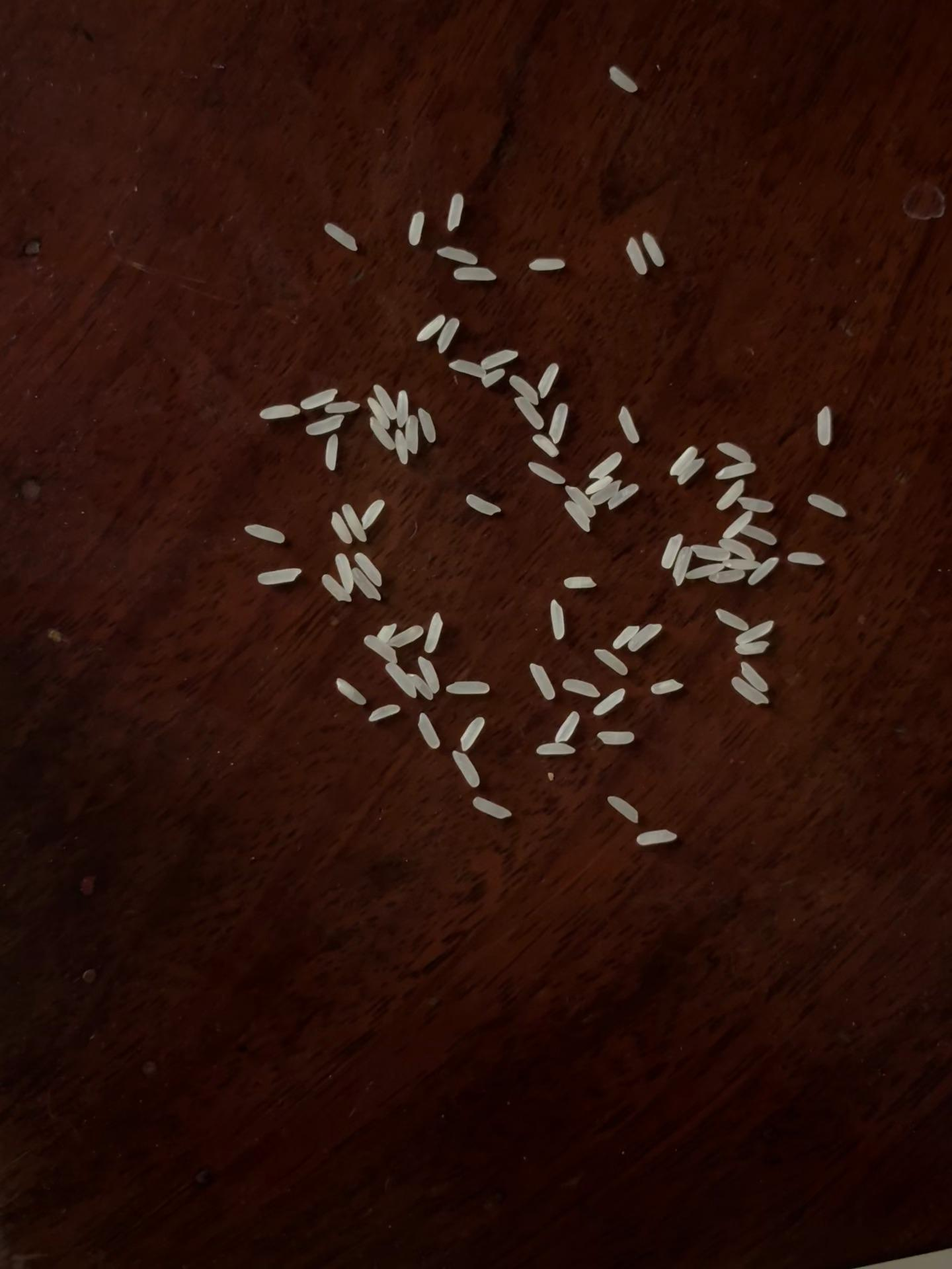Rice-th-y-nh: (385, 662, 417, 699), (451, 749, 481, 788), (340, 503, 368, 543), (731, 677, 770, 705), (564, 485, 597, 518), (363, 635, 399, 664), (529, 662, 556, 700), (628, 623, 663, 652), (735, 620, 775, 645), (670, 546, 695, 586), (352, 568, 382, 601), (592, 688, 626, 717), (323, 223, 358, 251), (594, 648, 629, 676), (355, 552, 383, 587), (459, 716, 486, 752), (509, 375, 540, 406), (514, 397, 544, 429), (472, 796, 511, 820), (722, 510, 753, 540), (668, 446, 698, 477), (716, 479, 745, 511), (333, 554, 356, 594), (588, 452, 622, 479), (368, 417, 395, 451), (417, 656, 441, 694), (321, 574, 351, 604), (416, 713, 441, 749), (373, 384, 398, 420), (748, 557, 779, 586), (740, 661, 769, 692), (808, 494, 847, 517), (335, 678, 367, 706), (554, 711, 581, 744), (719, 537, 756, 561), (546, 599, 568, 639), (676, 457, 706, 486), (608, 795, 639, 823), (590, 479, 621, 507), (388, 625, 424, 649), (660, 533, 684, 569), (617, 406, 640, 443), (423, 613, 444, 653), (564, 501, 591, 532), (306, 414, 344, 436), (625, 238, 648, 274), (416, 315, 446, 342), (608, 483, 639, 509), (437, 318, 460, 353), (642, 232, 665, 267), (245, 524, 285, 544), (549, 403, 569, 443), (301, 388, 337, 410), (529, 462, 565, 484), (446, 679, 490, 697), (609, 66, 638, 93), (407, 673, 434, 702), (715, 608, 749, 631), (437, 246, 478, 265), (537, 363, 559, 398), (562, 678, 600, 698), (403, 415, 422, 454), (367, 397, 390, 429), (742, 524, 777, 545), (717, 442, 752, 463), (258, 568, 301, 585), (330, 512, 352, 545), (693, 543, 731, 562), (738, 495, 774, 515), (480, 350, 517, 369), (687, 561, 724, 580), (716, 462, 755, 480), (450, 359, 486, 378), (466, 495, 500, 515), (612, 624, 639, 649), (361, 500, 384, 529), (597, 729, 634, 747), (636, 829, 677, 845), (393, 391, 411, 427), (816, 407, 833, 445), (535, 740, 575, 756), (454, 266, 496, 281), (447, 194, 464, 231), (260, 404, 299, 420), (532, 434, 559, 457), (418, 408, 436, 442), (723, 556, 760, 572), (368, 704, 400, 722), (408, 212, 425, 245), (710, 568, 745, 584), (394, 430, 410, 464), (585, 476, 613, 495), (650, 679, 683, 695), (788, 552, 824, 566), (325, 435, 339, 470), (735, 641, 769, 655), (325, 400, 359, 414), (529, 258, 565, 271), (482, 368, 505, 387), (564, 576, 596, 589), (377, 624, 398, 643)
